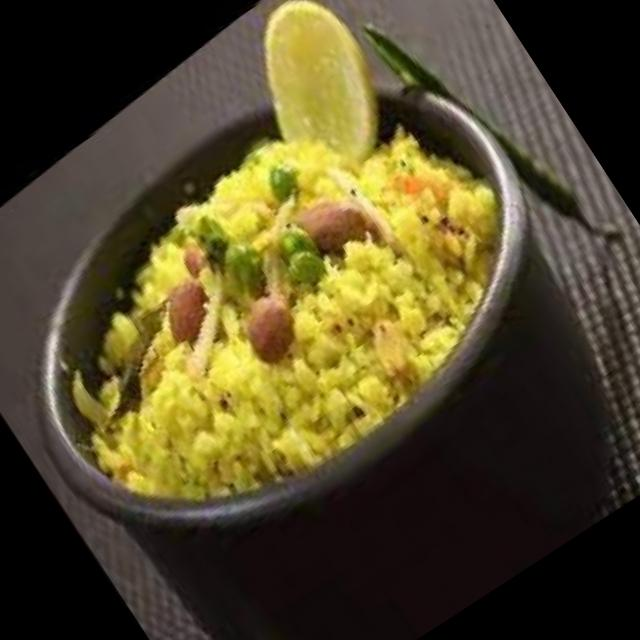poha: (0, 34, 575, 577)
